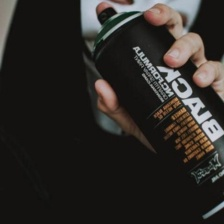aerosol_cans: (86, 2, 224, 222)
